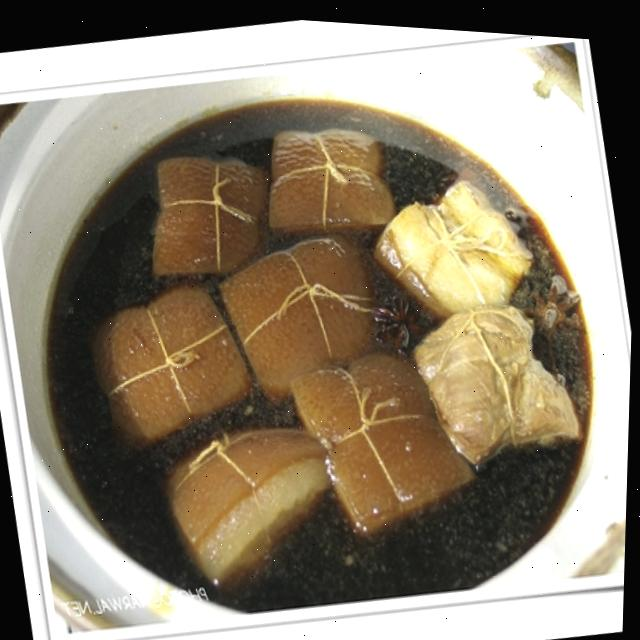牛肉菜式: (26, 40, 626, 628)
